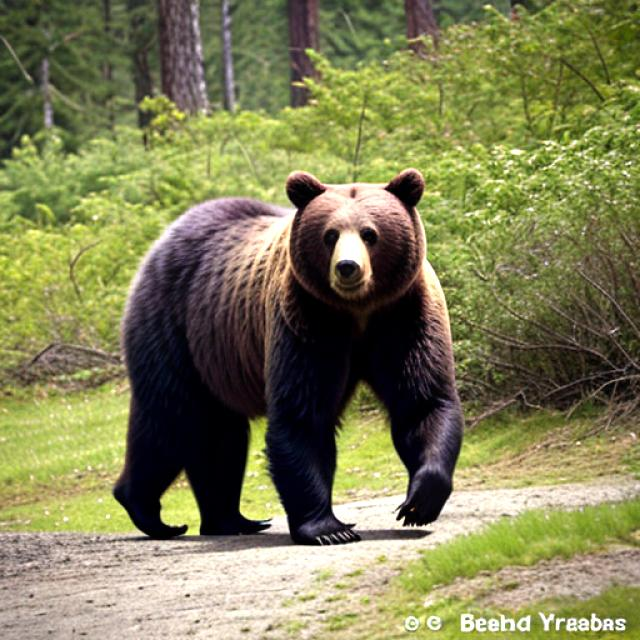bear: (255, 166, 472, 372)
